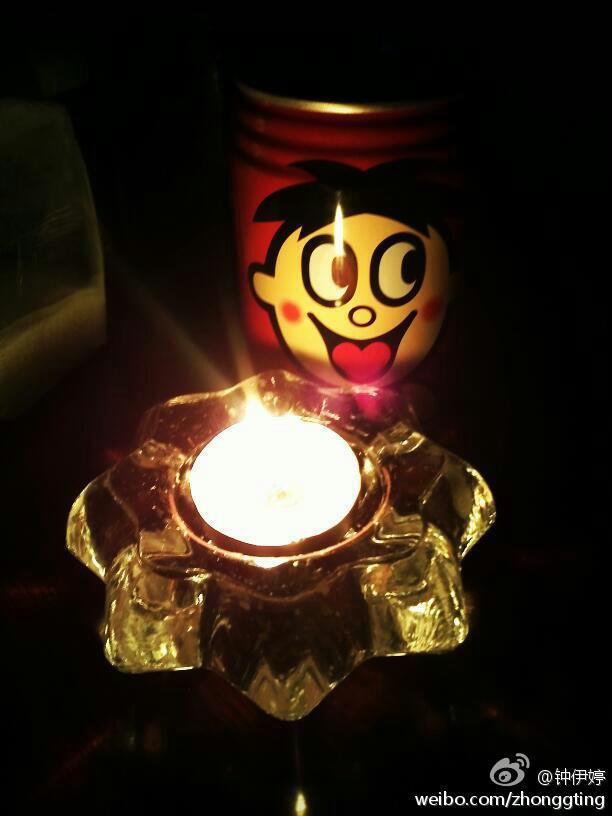wangzai: (246, 148, 459, 403)
